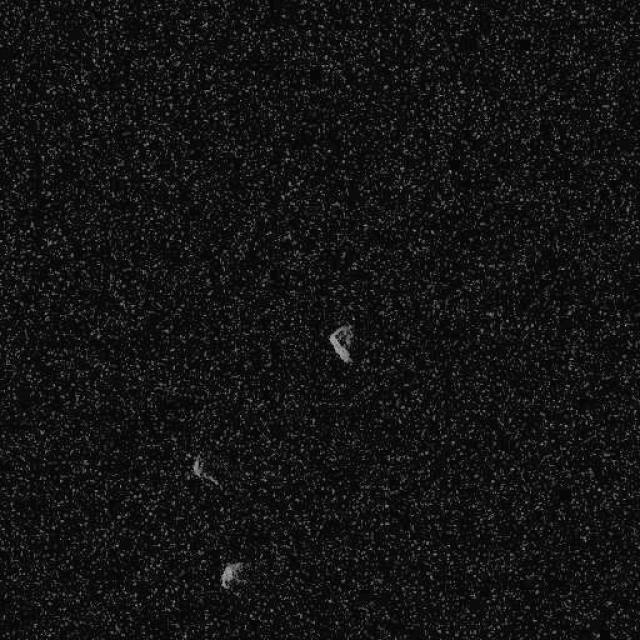D2: (326, 322, 355, 363), (190, 453, 220, 488), (218, 560, 242, 590)
